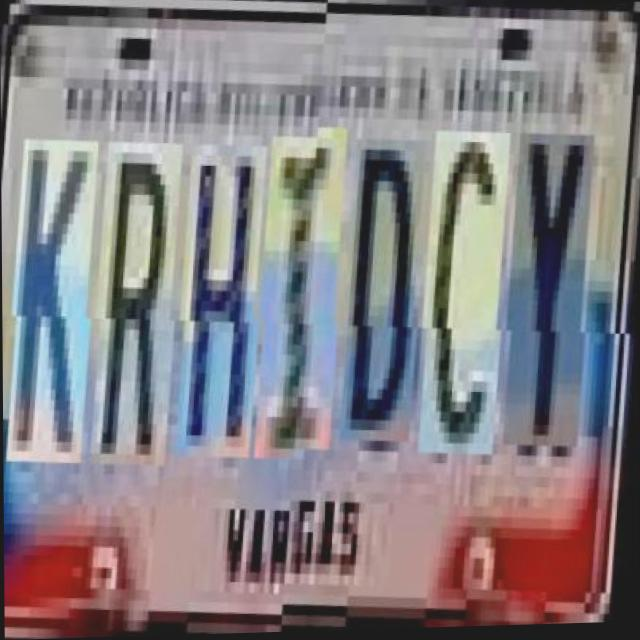c: (423, 136, 519, 463)
d: (344, 146, 435, 451)
h: (181, 141, 277, 457)
i: (259, 133, 355, 460)
k: (12, 137, 108, 464)
r: (96, 139, 192, 466)
y: (507, 139, 603, 454)
